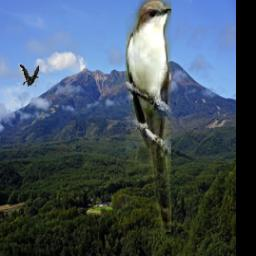Crow: (18, 65, 39, 88)
Cuckoo: (126, 0, 171, 232)
